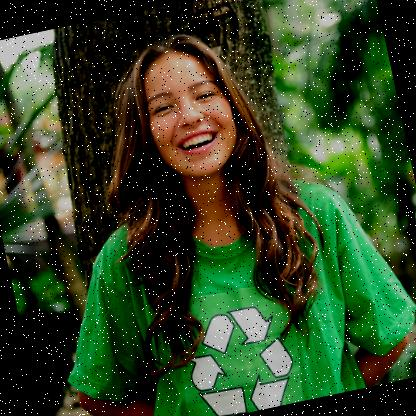sem_capacete: (100, 14, 276, 202)
sem_colete_refletivo: (27, 143, 415, 415)
